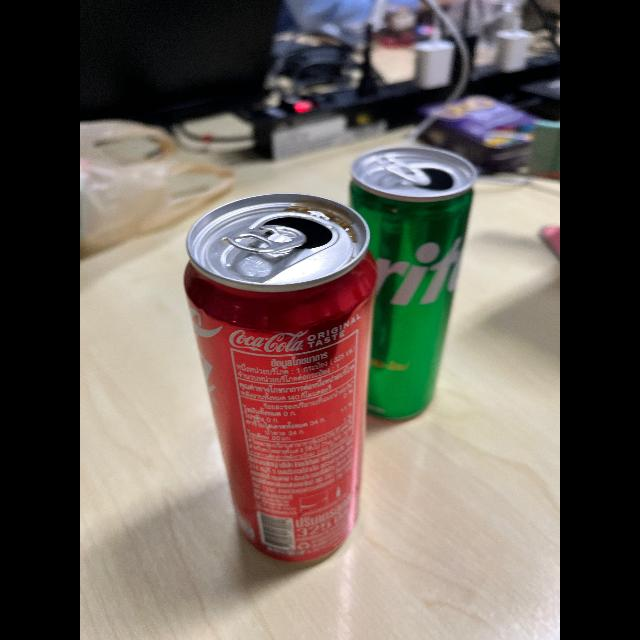can: (166, 196, 390, 570), (324, 134, 482, 430)
